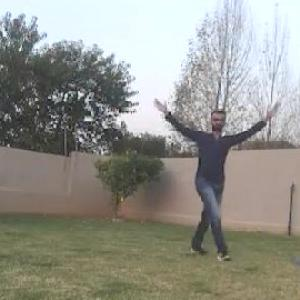takeoff: (151, 99, 282, 255)
